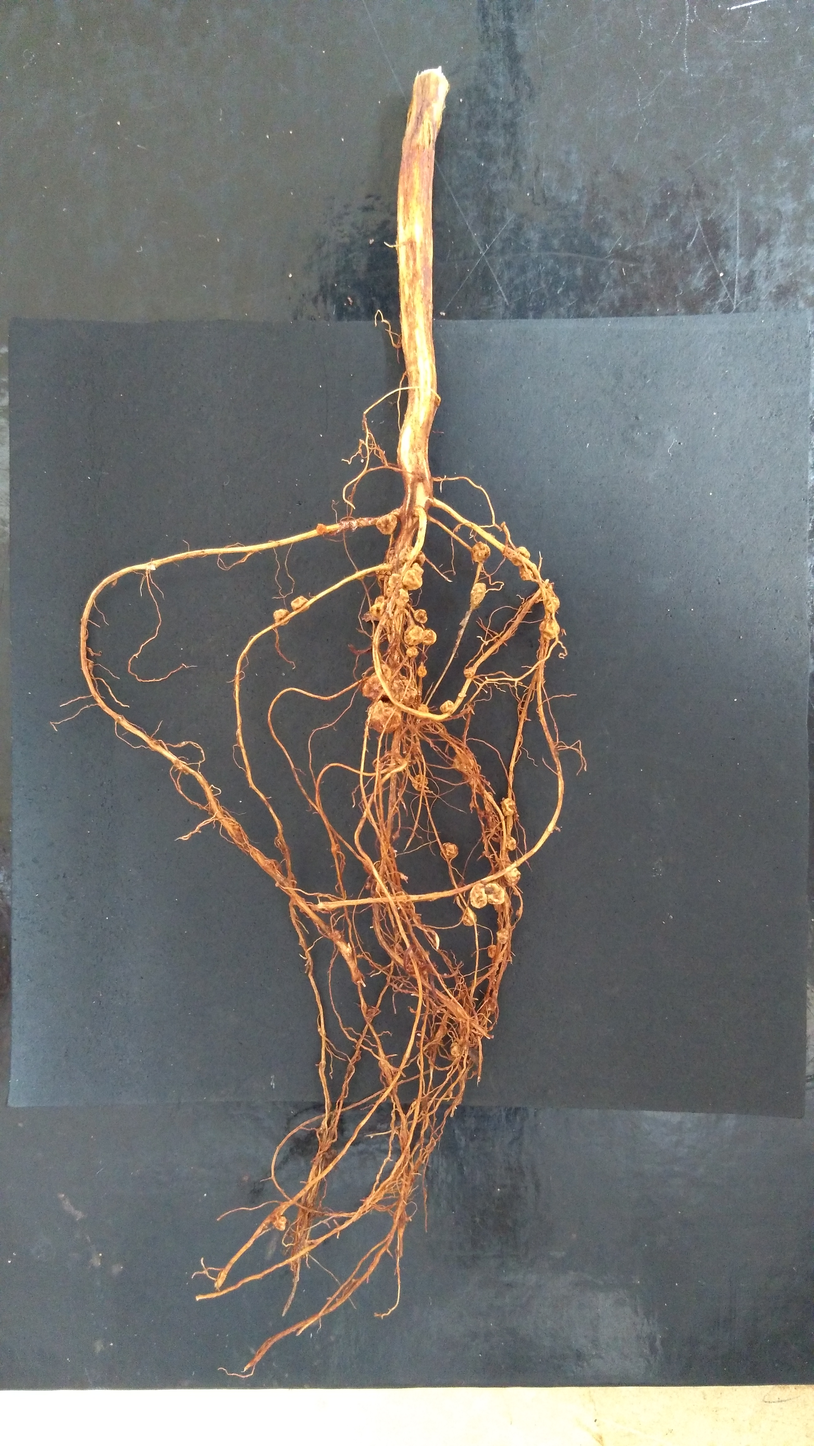nodule: (362, 663, 395, 701), (368, 699, 403, 734), (469, 882, 506, 908), (390, 674, 418, 707), (385, 572, 410, 607), (400, 563, 424, 590), (399, 545, 426, 567), (379, 598, 405, 620), (452, 750, 476, 773), (470, 541, 491, 564), (501, 862, 521, 886), (538, 618, 560, 639), (375, 514, 398, 534), (469, 582, 486, 608), (510, 546, 531, 567), (404, 624, 424, 646), (385, 609, 408, 628), (401, 730, 420, 753), (518, 563, 540, 581), (290, 595, 310, 613), (467, 1045, 484, 1066), (462, 771, 483, 787), (273, 608, 291, 626), (375, 563, 392, 582), (411, 773, 428, 791), (462, 907, 477, 927), (421, 627, 437, 645), (442, 841, 458, 858), (501, 798, 516, 816), (545, 596, 560, 613), (268, 859, 283, 876), (413, 608, 428, 624), (368, 602, 384, 617), (503, 835, 517, 852), (496, 927, 509, 945), (417, 702, 429, 721), (272, 1216, 287, 1231), (439, 700, 455, 714), (450, 1041, 463, 1058), (484, 996, 497, 1013), (385, 545, 396, 563), (364, 1006, 381, 1017), (416, 665, 428, 678), (375, 595, 388, 607), (406, 646, 419, 657), (487, 944, 498, 957), (286, 875, 296, 889), (316, 523, 327, 535), (463, 667, 475, 678), (330, 843, 342, 854), (390, 508, 402, 517), (434, 394, 442, 407), (86, 661, 95, 670), (488, 820, 497, 829), (454, 524, 462, 532), (515, 908, 523, 916), (458, 692, 466, 699), (365, 881, 371, 890), (500, 521, 506, 527), (299, 908, 304, 913), (274, 882, 279, 887), (317, 1027, 322, 1032), (561, 627, 565, 633), (360, 458, 364, 463)
